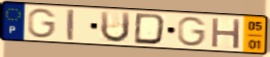D: (132, 12, 168, 46)
G: (26, 7, 59, 40), (176, 16, 209, 48)
H: (210, 16, 243, 50)
I: (65, 8, 76, 42)
U: (99, 10, 132, 45)
